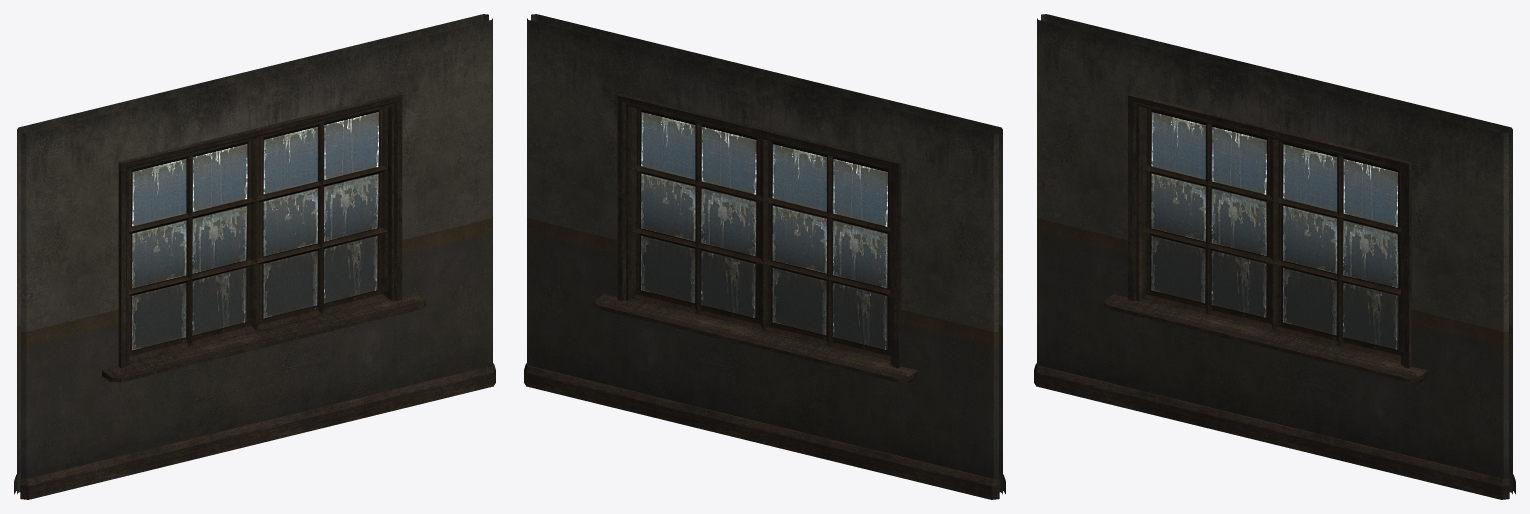
Rendered from window_2_double.fbx.
3 renders of one model, left to right at view 1: azimuth 30°, elevation 25°; view 2: azimuth 150°, elevation 25°; view 3: azimuth 330°, elevation 25°, orthographic.
Visible parts, largest first — view 1: window_2_double; view 2: window_2_double; view 3: window_2_double.
Boxes of the visible parts, box(x1,y1,x2,y2) form: window_2_double: box(14, 14, 495, 499); window_2_double: box(524, 14, 1005, 499); window_2_double: box(1034, 14, 1515, 499).
Size of the model in its own units: 4.09 by 0.52 by 3.
